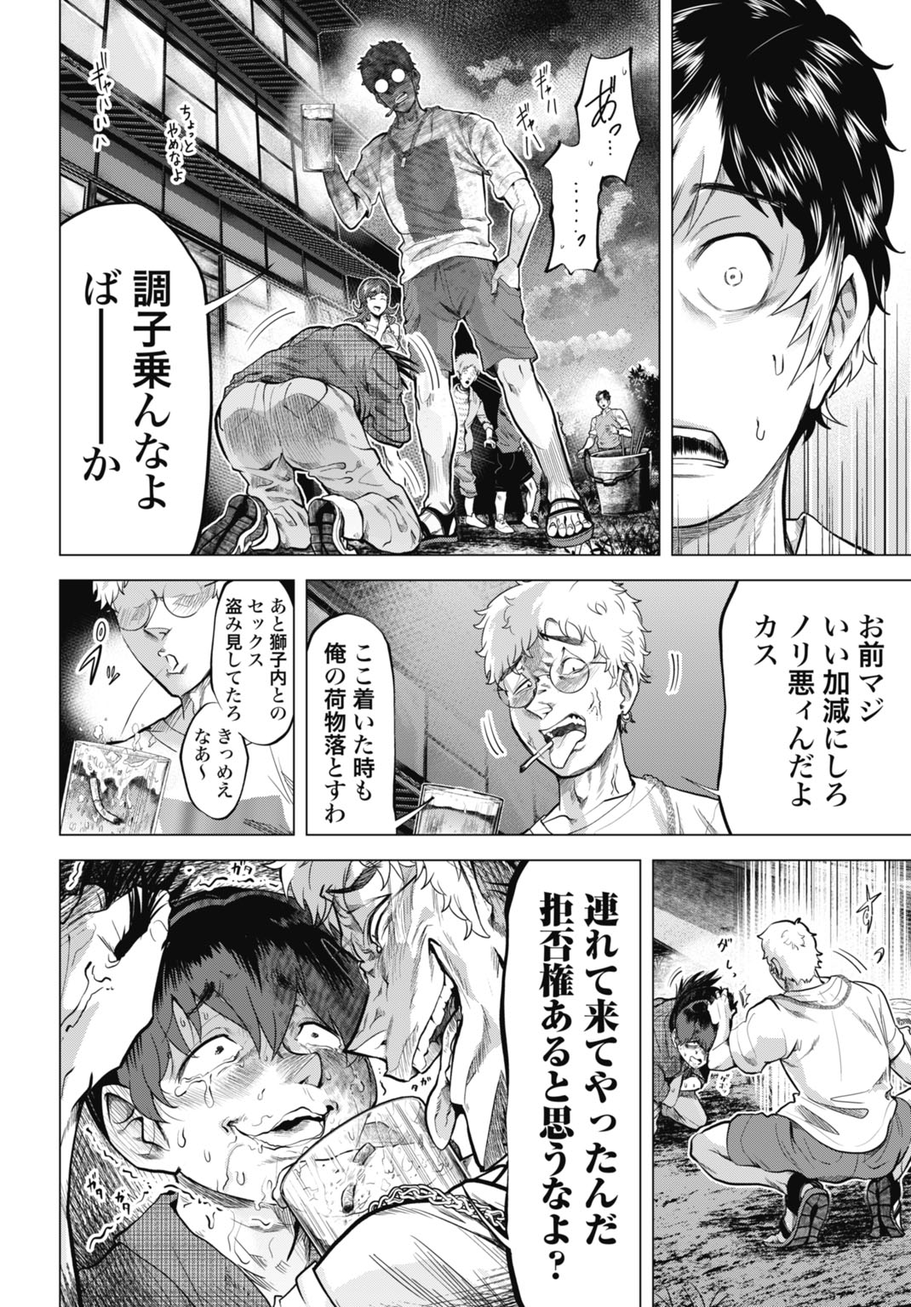bubbles: (471, 860, 642, 1307), (60, 192, 229, 556), (678, 579, 910, 836), (178, 582, 293, 826), (306, 610, 418, 834)
